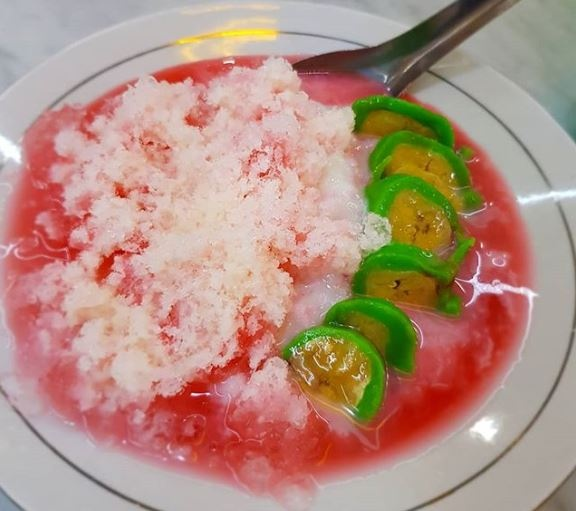es_pisang_ijo: (26, 58, 520, 483)
